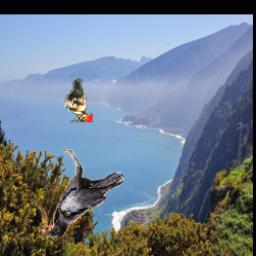Crow: (35, 149, 125, 242)
Woodpecker: (64, 79, 94, 123)
